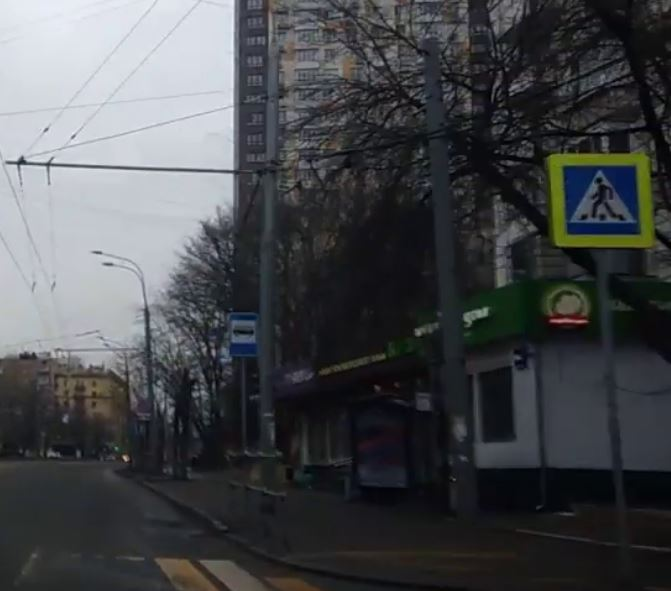Yaya Gecidi: (569, 163, 644, 234)
